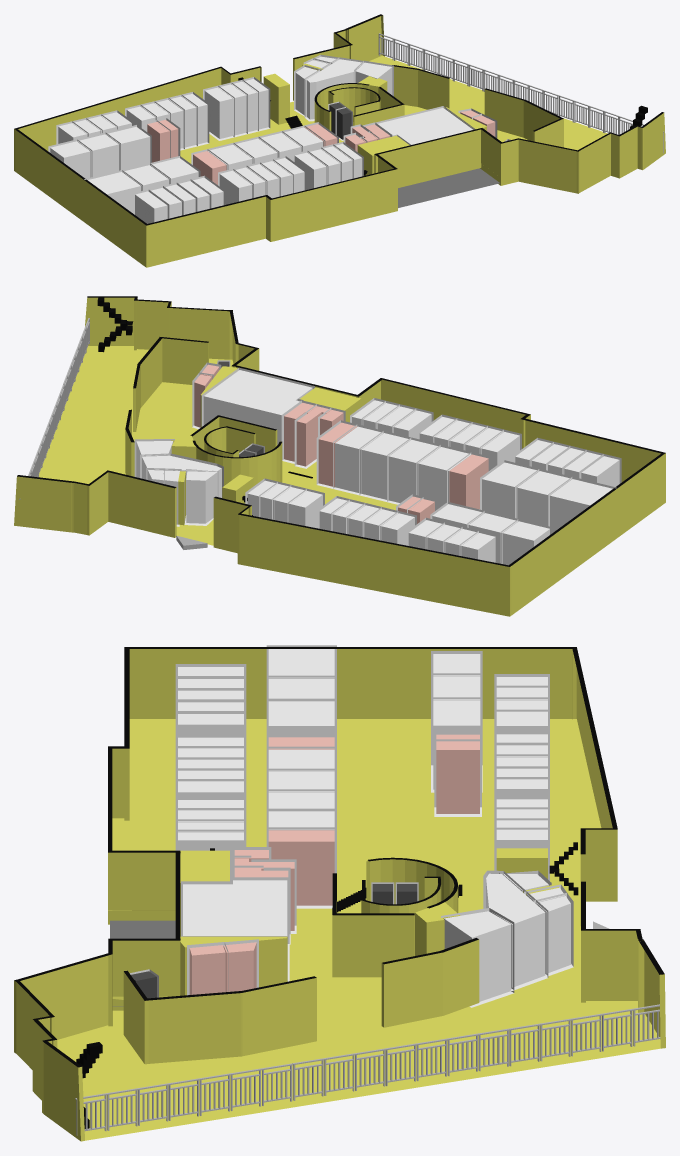
3 renders of one model, top to bottom at view 1: azimuth 30°, elevation 25°; view 2: azimuth 150°, elevation 25°; view 3: azimuth 270°, elevation 25°, orthographic. The views are drawn at different scales.
Visible parts, largest first — view 1: object, object_9_2.002, room_9_5_34, room_9_5_31, object_9_2.001, object_9_2, room_9_5_29, room_9_5_38, room_9_5_37, room_9_5_10, room_9_5_39, object.002 (+35 smaller); view 2: object, room_9_5_34, room_9_5_41, room_9_5_44, room_9_5_43, room_9_5_45, room_9_5_40, room_9_5_42, room_9_5_39, トイレ_9_5_7, room_9_5_33, room_9_5_36 (+28 smaller); view 3: object, room_9_5_34, object_9_2, object_9_2.001, object_9_2.002, room_9_5_29, トイレ_9_5_8, room_9_5_30, トイレ_9_5_1, room_9_5_41, room_9_5_39, room_9_5_28 (+25 smaller).
Part boxes in pixels (x1=…): object: x1=14, y1=14, x2=665, y2=267; object_9_2.002: x1=378, y1=33, x2=483, y2=91; room_9_5_34: x1=378, y1=108, x2=472, y2=145; room_9_5_31: x1=398, y1=168, x2=499, y2=207; object_9_2.001: x1=454, y1=60, x2=558, y2=115; object_9_2: x1=559, y1=95, x2=664, y2=153; room_9_5_29: x1=306, y1=59, x2=363, y2=119; room_9_5_38: x1=106, y1=126, x2=150, y2=170; room_9_5_37: x1=77, y1=134, x2=118, y2=177; room_9_5_10: x1=204, y1=87, x2=232, y2=138; room_9_5_39: x1=88, y1=172, x2=140, y2=213; object.002: x1=263, y1=73, x2=289, y2=124; object: x1=14, y1=296, x2=665, y2=616; room_9_5_34: x1=203, y1=370, x2=312, y2=444; room_9_5_41: x1=482, y1=462, x2=538, y2=518; room_9_5_44: x1=361, y1=433, x2=410, y2=499; room_9_5_43: x1=389, y1=440, x2=440, y2=502; room_9_5_45: x1=335, y1=426, x2=383, y2=493; room_9_5_40: x1=517, y1=471, x2=571, y2=526; room_9_5_42: x1=418, y1=447, x2=471, y2=509; room_9_5_39: x1=550, y1=479, x2=612, y2=532; トイレ_9_5_7: x1=449, y1=454, x2=488, y2=509; room_9_5_33: x1=186, y1=471, x2=217, y2=523; room_9_5_36: x1=502, y1=521, x2=549, y2=565; object: x1=14, y1=647, x2=665, y2=1141; room_9_5_34: x1=183, y1=880, x2=287, y2=936; object_9_2: x1=75, y1=1063, x2=292, y2=1135; object_9_2.001: x1=292, y1=1029, x2=509, y2=1100; object_9_2.002: x1=448, y1=1004, x2=660, y2=1071; room_9_5_29: x1=486, y1=873, x2=545, y2=987; トイレ_9_5_8: x1=268, y1=830, x2=334, y2=905; room_9_5_30: x1=444, y1=911, x2=511, y2=1001; トイレ_9_5_1: x1=436, y1=742, x2=479, y2=813; room_9_5_41: x1=268, y1=701, x2=334, y2=734; room_9_5_39: x1=268, y1=649, x2=334, y2=678; room_9_5_28: x1=536, y1=896, x2=570, y2=973.
Bounding box in the file's own units: 2.43 × 0.2418 × 1.58.
